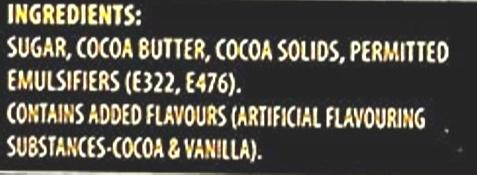ingredients: (2, 1, 461, 167)
